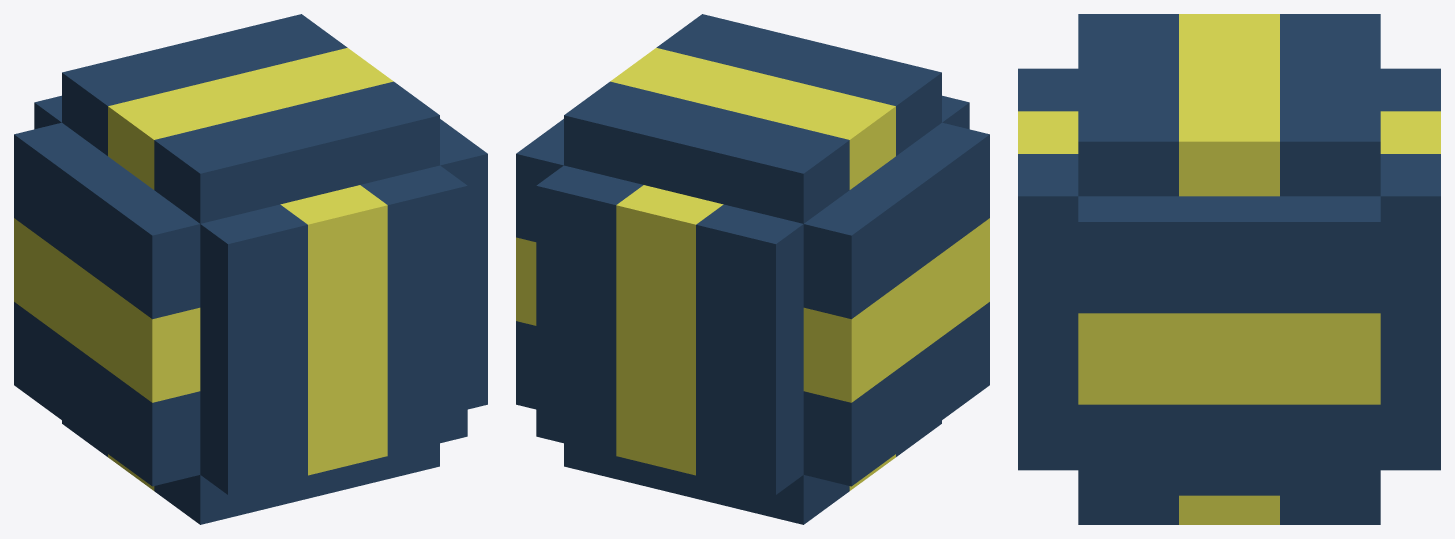
File: Volleyball.fbx
3 views of the same model, side by side, from view 1: azimuth 30°, elevation 25°; view 2: azimuth 150°, elevation 25°; view 3: azimuth 270°, elevation 25° (orthographic). The views are drawn at different scales.
Parts seen in each view (by area): view 1: Volleyball; view 2: Volleyball; view 3: Volleyball.
Part boxes in pixels (x1,y1,x2,y2): Volleyball: [14, 14, 487, 524]; Volleyball: [516, 14, 989, 524]; Volleyball: [1018, 14, 1440, 524].
Bounding box in the file's own units: 1.4 × 1.4 × 1.4.
